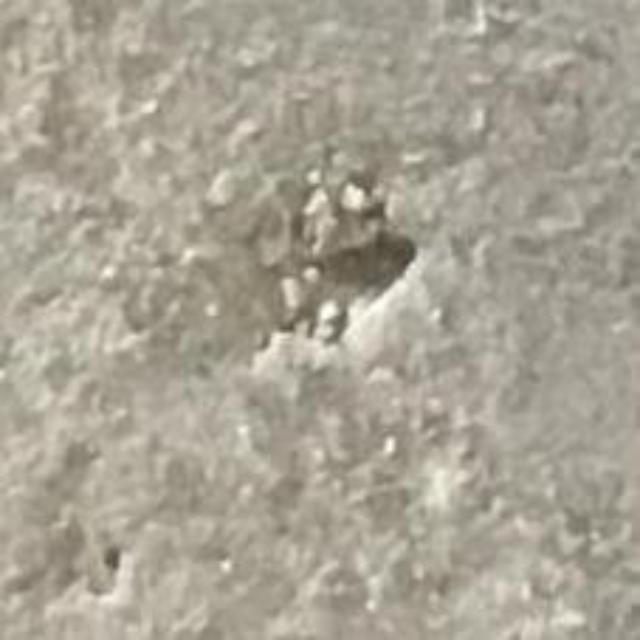peeling plaster: (285, 175, 417, 341)
